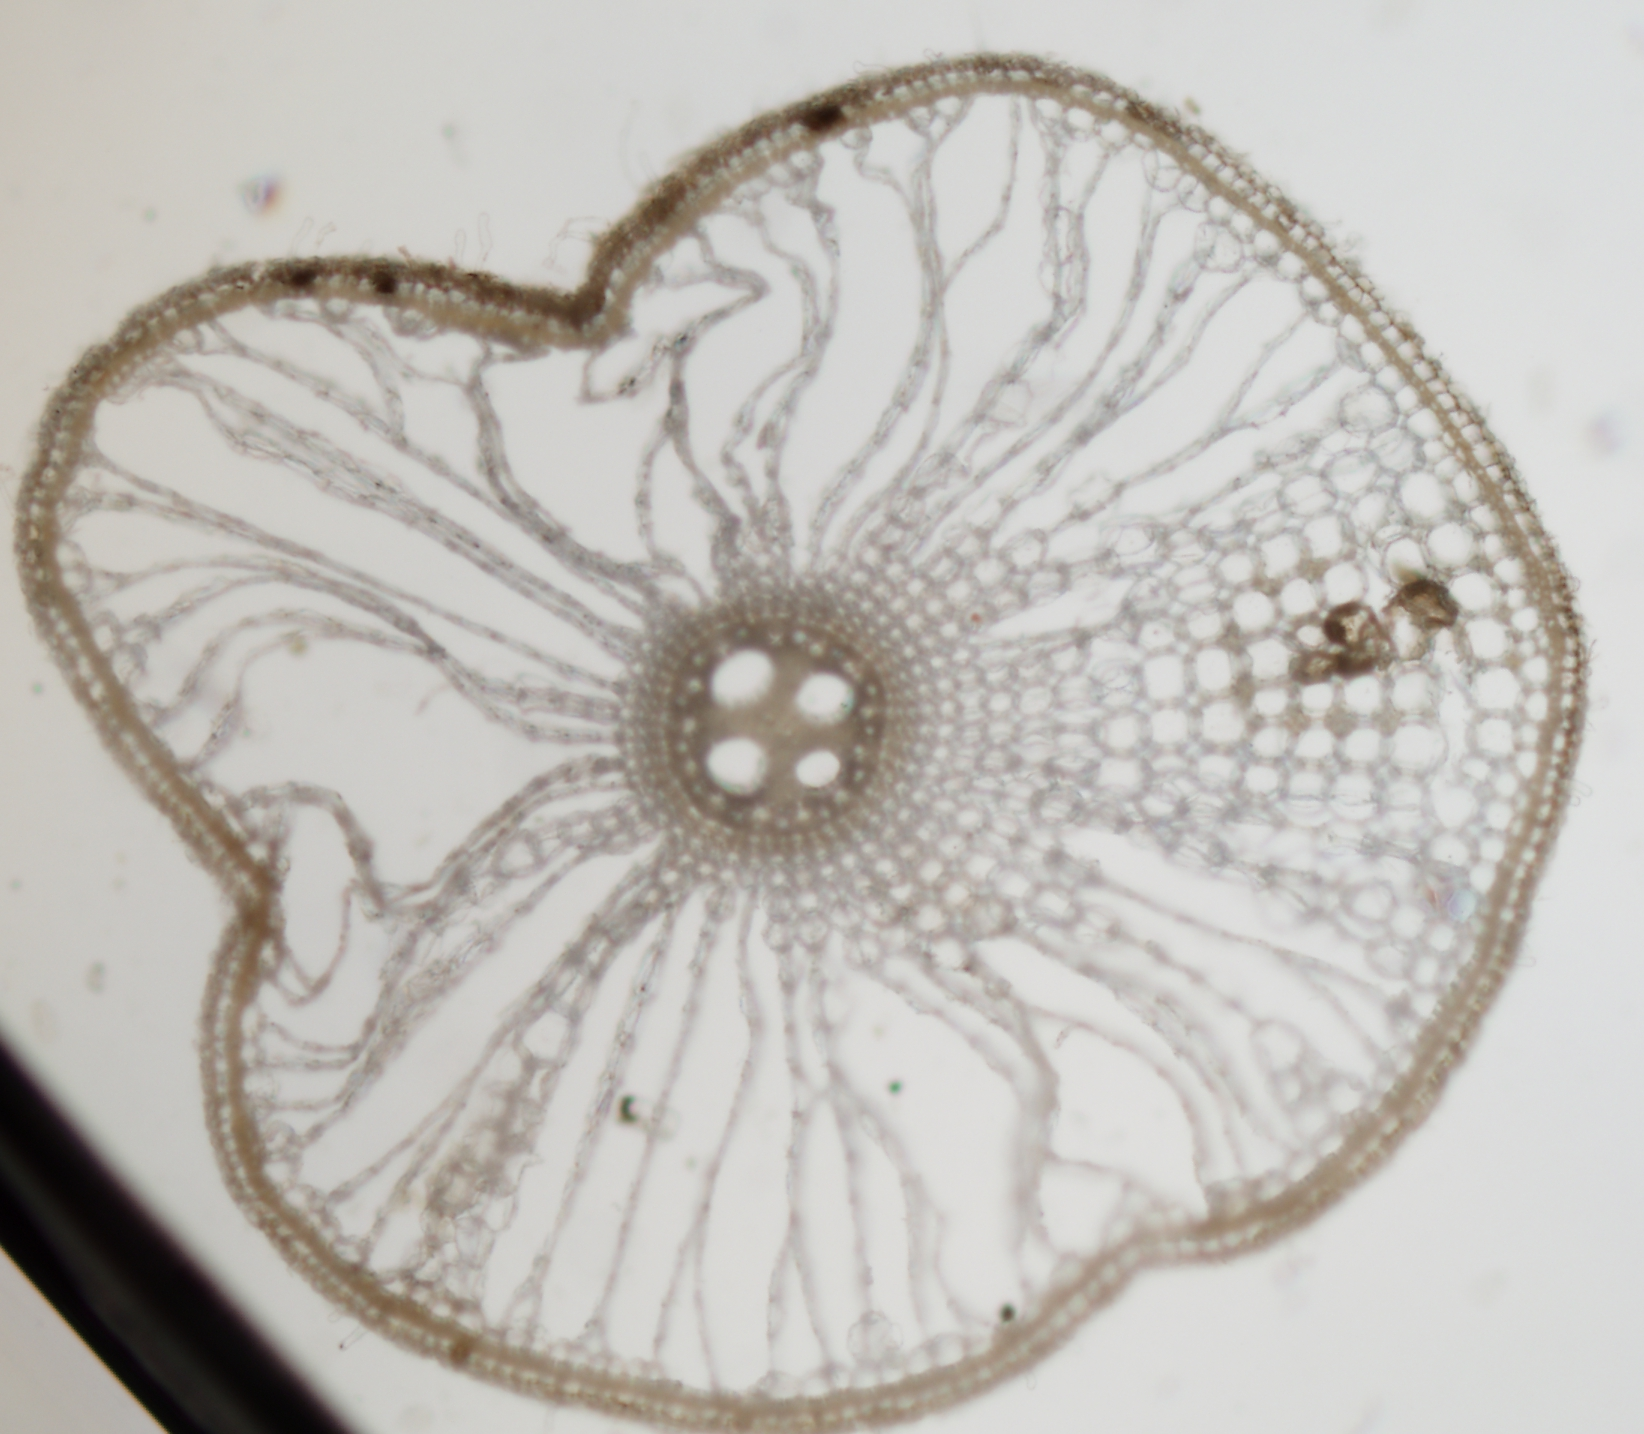lm: (710, 649, 774, 704), (707, 737, 767, 792), (795, 672, 854, 725), (795, 749, 840, 785)
